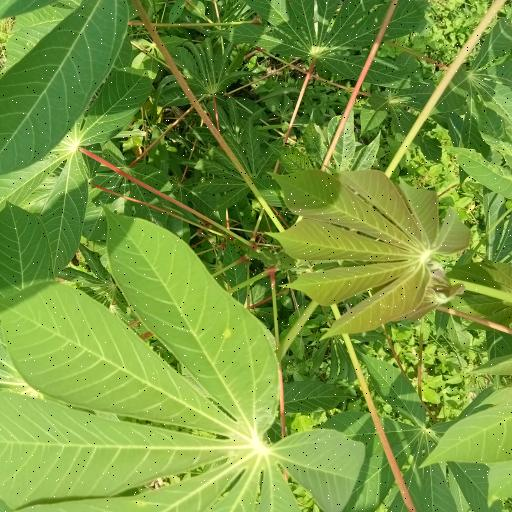Cassava_Healthy: (20, 195, 344, 512)
